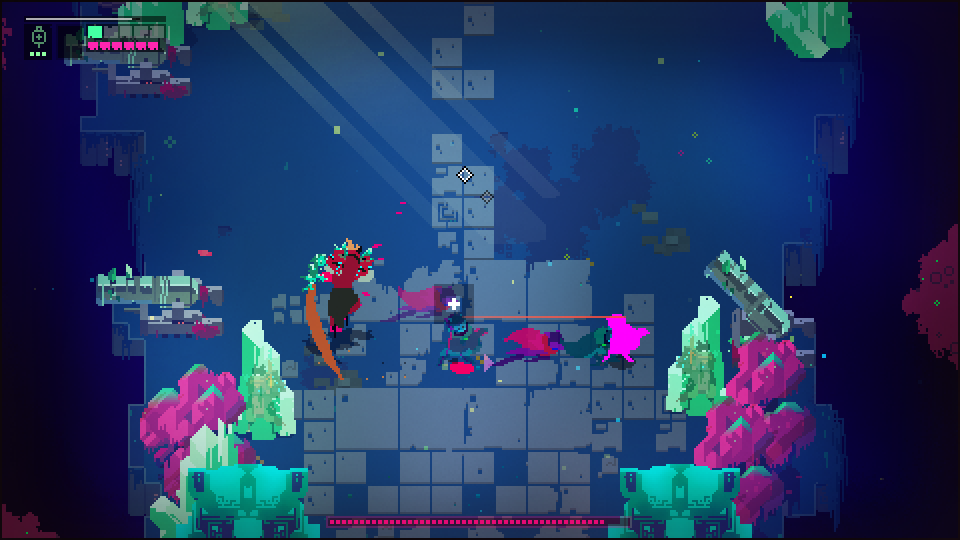hanged_man: (301, 238, 385, 362)
player: (602, 310, 647, 366)
